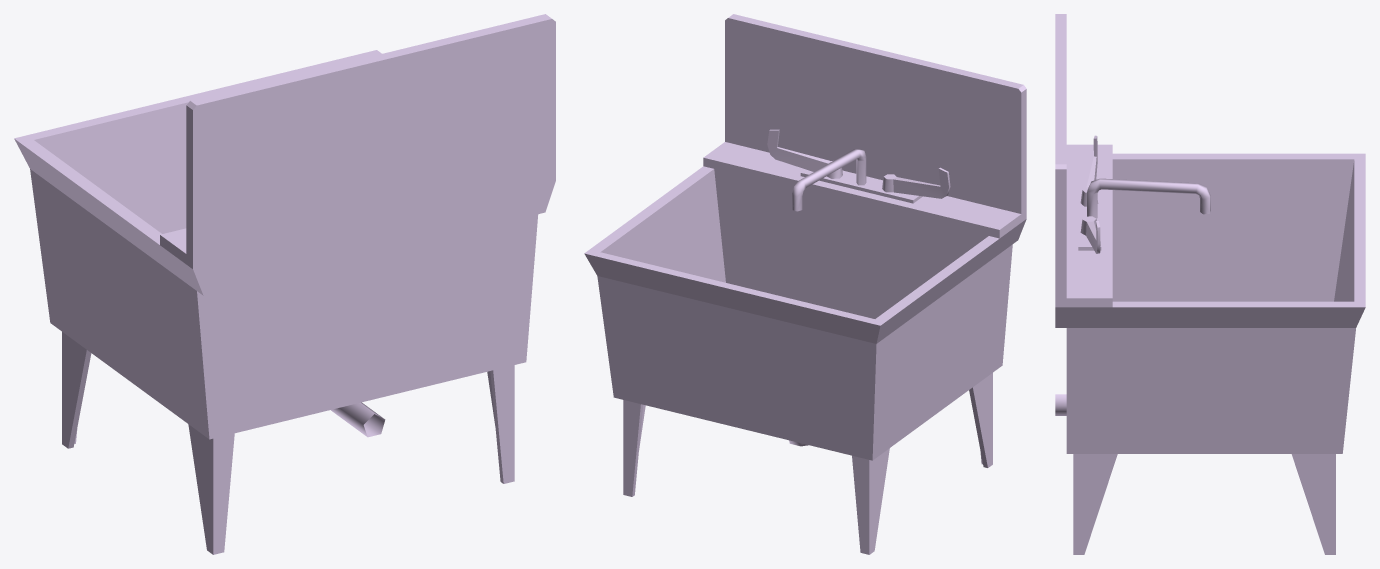
The model's file is laundrysink1.fbx.
3 renders of one model, left to right at view 1: azimuth 30°, elevation 25°; view 2: azimuth 150°, elevation 25°; view 3: azimuth 270°, elevation 25°, orthographic. The views are drawn at different scales.
Visible parts, largest first — view 1: AA_LaundrySink_01_TCH_SMesh; view 2: AA_LaundrySink_01_TCH_SMesh; view 3: AA_LaundrySink_01_TCH_SMesh.
Boxes of the visible parts, x1=… form: AA_LaundrySink_01_TCH_SMesh: x1=14, y1=14, x2=555, y2=554; AA_LaundrySink_01_TCH_SMesh: x1=584, y1=14, x2=1026, y2=554; AA_LaundrySink_01_TCH_SMesh: x1=1055, y1=14, x2=1365, y2=554.
Size of the model in its own units: 206 by 251 by 176.
